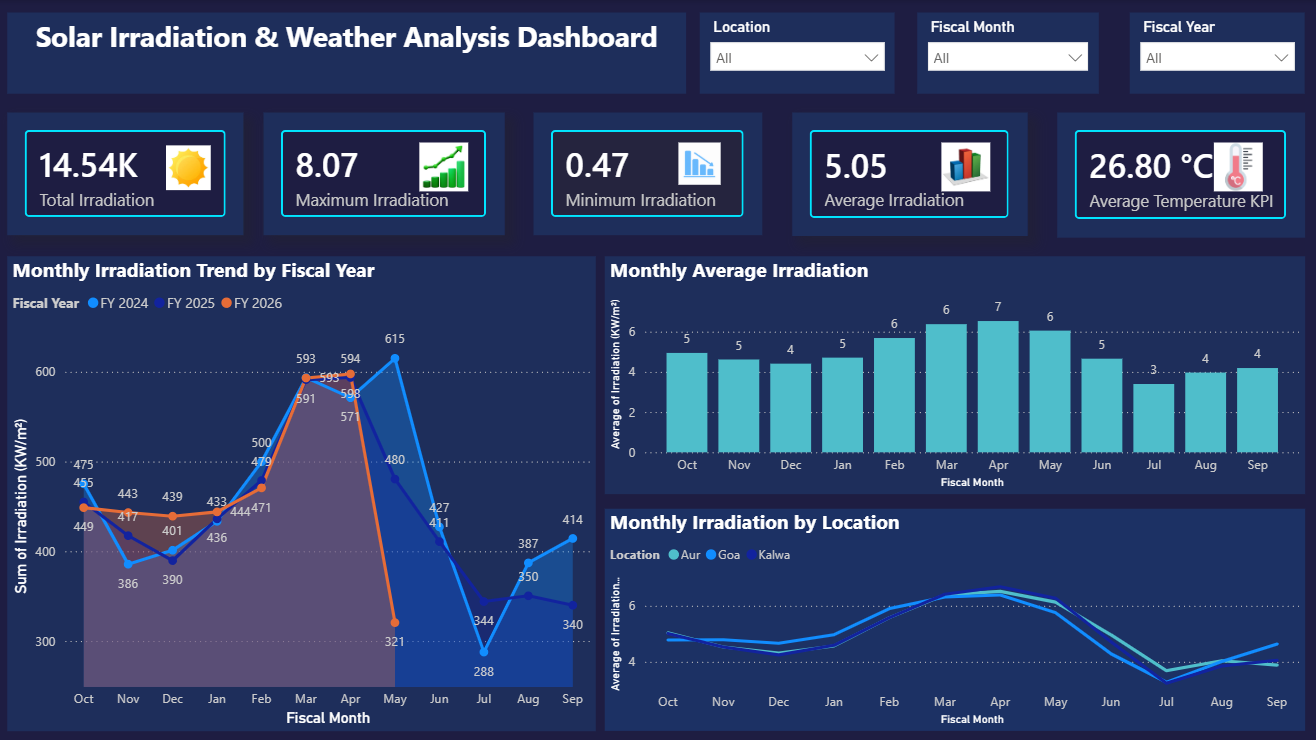

Layout of this report page (visuals, bound fields, positions):
{"tool":"powerbi","page":{"name":"solar_Dashboard","canvas":[1280,720],"ordinal":0},"visuals":[{"type":"textbox","box":[10.9,12.1,655.1,78.4],"z":0},{"type":"lineChart","title":"Monthly Irradiation Trend by Fiscal Year","fields":{"Y":["Sum(Solar_Data.Irradiation (KW/m²))"],"Category":["Solar_Data.Fiscal Month"],"Series":["Solar_Data.Fiscal Year"]},"box":[10.9,247.3,568.2,458.4],"z":1000},{"type":"cardVisual","fields":{"Data":["Solar_Data.Total Irradiation"]},"box":[10.9,108.6,228,118.2],"z":2000},{"type":"cardVisual","fields":{"Data":["Solar_Data.Maximum Irradiation"]},"box":[258.2,108.6,232.8,118.2],"z":3000},{"type":"cardVisual","fields":{"Data":["Solar_Data.Average Irradiation"]},"box":[768.5,108.6,226.8,119.4],"z":4000},{"type":"cardVisual","fields":{"Data":["Solar_Data.Average Temperature"]},"box":[1024.3,108.6,238.9,120.6],"z":5000},{"type":"slicer","title":"Location📍","fields":{"Values":["Solar_Data.Location"]},"box":[679.2,12.1,188.2,78.4],"z":6000},{"type":"image","box":[1166.6,137.5,65.1,47.1],"z":7000},{"type":"clusteredColumnChart","title":"Monthly Average Irradiation","fields":{"Category":["Solar_Data.Fiscal Month"],"Y":["Avg(Solar_Data.Irradiation (KW/m²))"]},"box":[587.5,247.3,675.6,229.2],"z":8000},{"type":"lineChart","title":"Monthly Irradiation by Location","fields":{"Y":["Avg(Solar_Data.Irradiation (KW/m²))"],"Series":["Solar_Data.Location"],"Category":["Solar_Data.Fiscal Month"]},"box":[587.5,491,675.6,214.7],"z":9000},{"type":"slicer","title":"Month ","fields":{"Values":["Solar_Data.Fiscal Month"]},"box":[889.1,12.1,174.9,78.4],"z":10000},{"type":"slicer","fields":{"Values":["Solar_Data.Fiscal Year"]},"box":[1094.2,12.1,168.9,78.4],"z":11000},{"type":"cardVisual","fields":{"Data":["Solar_Data.Minimum Irradiation"]},"box":[518.8,108.6,220.8,118.2],"z":12000},{"type":"image","box":[641.8,137.5,74.8,41],"z":13000},{"type":"image","box":[908.4,137.5,55.5,47.1],"z":14000},{"type":"image","box":[407.8,137.5,48.3,47.1],"z":15000},{"type":"image","box":[164.1,131.5,43.4,60.3],"z":16000}]}

Visuals, with their boxes in screenshot pixels (x1, y1, x2, y2), scaled from the page's 1280x720 canvas onto the 1316x740 screenshot:
textbox: <box>11,12,685,93</box>
"Monthly Irradiation Trend by Fiscal Year" lineChart: <box>11,254,595,725</box>
cardVisual - Solar_Data.Total Irradiation: <box>11,112,246,233</box>
cardVisual - Solar_Data.Maximum Irradiation: <box>265,112,505,233</box>
cardVisual - Solar_Data.Average Irradiation: <box>790,112,1023,234</box>
cardVisual - Solar_Data.Average Temperature: <box>1053,112,1299,236</box>
"Location📍" slicer: <box>698,12,892,93</box>
image: <box>1199,141,1266,190</box>
"Monthly Average Irradiation" clusteredColumnChart: <box>604,254,1299,490</box>
"Monthly Irradiation by Location" lineChart: <box>604,505,1299,725</box>
"Month " slicer: <box>914,12,1094,93</box>
slicer - Solar_Data.Fiscal Year: <box>1125,12,1299,93</box>
cardVisual - Solar_Data.Minimum Irradiation: <box>533,112,760,233</box>
image: <box>660,141,737,183</box>
image: <box>934,141,991,190</box>
image: <box>419,141,469,190</box>
image: <box>169,135,213,197</box>
